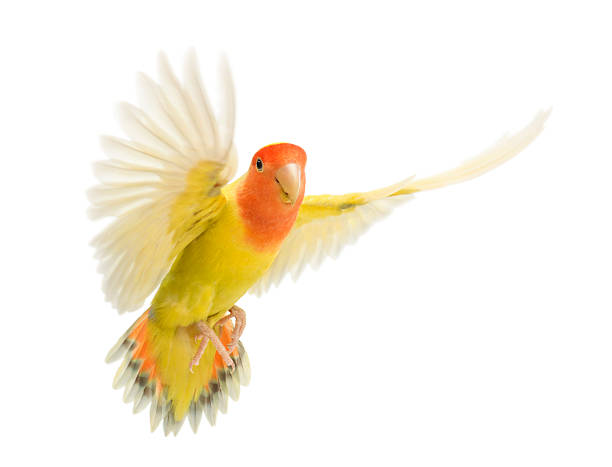Bird: (83, 40, 555, 446)
